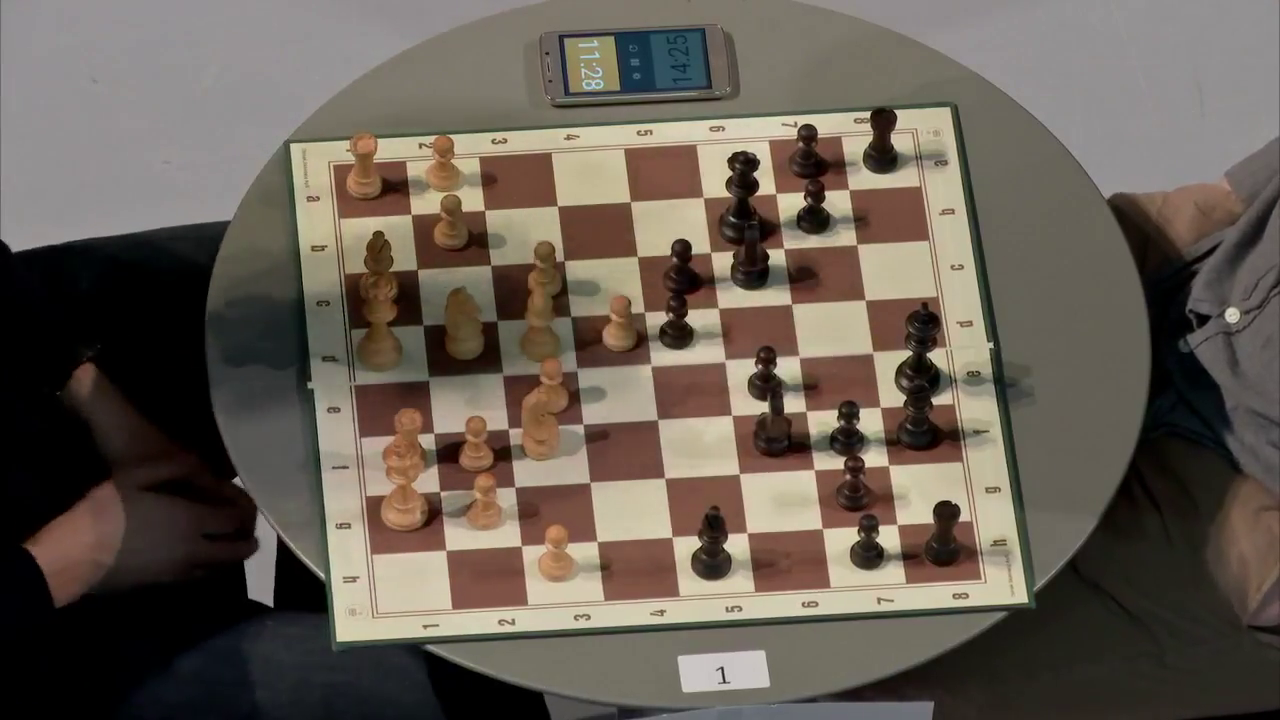black-bishop: (691, 505, 732, 581), (896, 380, 936, 451)
black-king: (894, 301, 941, 398)
black-knight: (730, 220, 770, 291), (752, 389, 793, 457)
black-pawn: (849, 513, 885, 571), (787, 123, 824, 179), (746, 345, 783, 401), (834, 455, 870, 512), (662, 238, 698, 294), (658, 294, 694, 350), (829, 400, 865, 456), (795, 180, 830, 235)
black-queen: (718, 150, 765, 245)
black-rook: (923, 500, 961, 568), (862, 106, 899, 175)
white-bishop: (359, 230, 399, 303)
white-king: (380, 433, 429, 532)
white-knight: (443, 285, 486, 361), (520, 388, 560, 461)
white-pawn: (530, 357, 569, 414), (601, 294, 638, 353), (465, 473, 502, 531), (537, 525, 574, 583), (433, 193, 469, 251), (526, 241, 562, 297), (459, 415, 494, 472), (425, 135, 460, 192)
white-queen: (356, 271, 403, 372)
white-rook: (387, 407, 428, 474), (345, 131, 383, 200)
